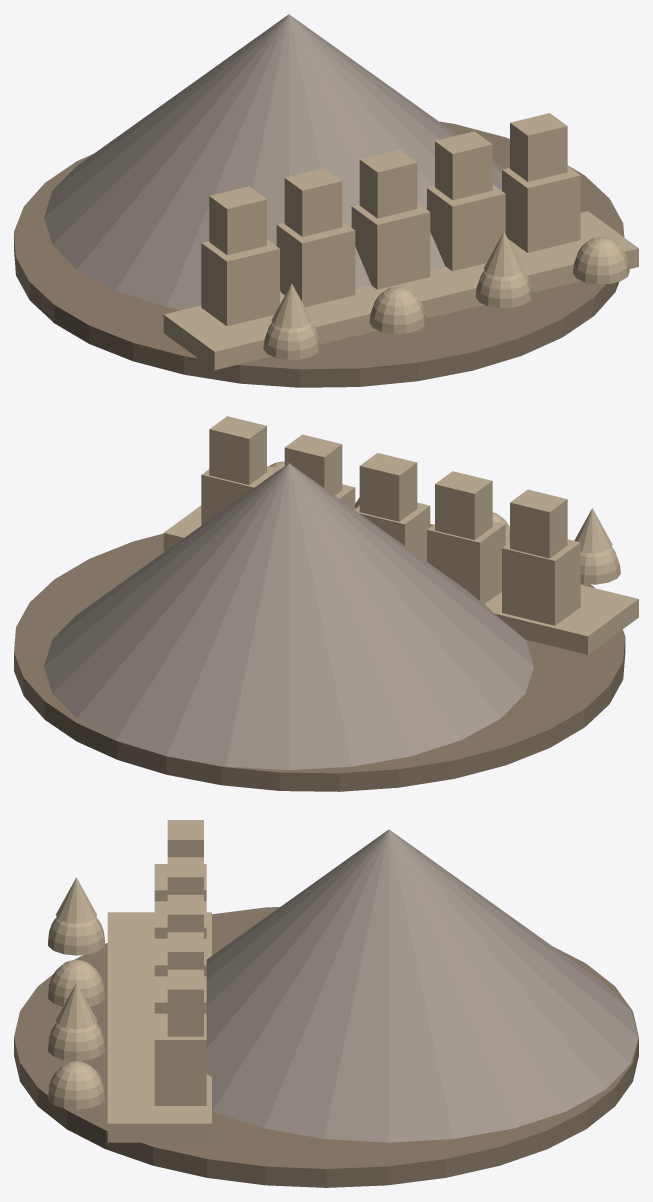
The model's file is nemrut.glb.
3 renders of one model, top to bottom at view 1: azimuth 30°, elevation 25°; view 2: azimuth 150°, elevation 25°; view 3: azimuth 270°, elevation 25°, orthographic. The views are drawn at different scales.
Bounding box in the file's own units: 0.6 × 0.24 × 0.6.
